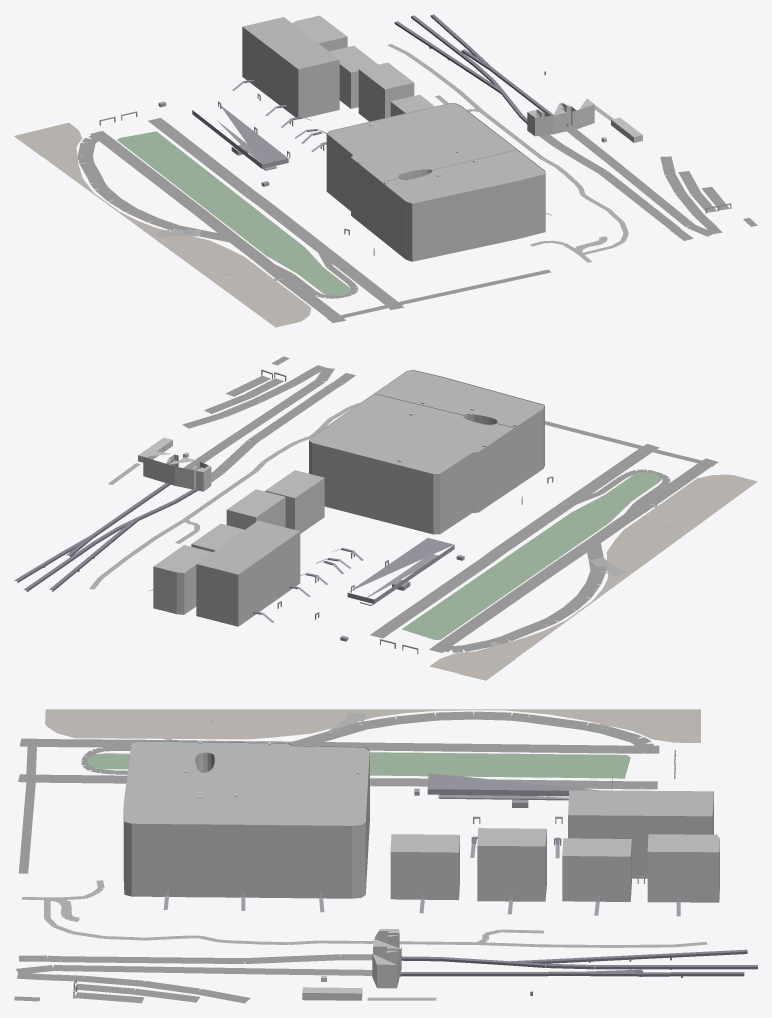
3 views of the same model, one above another, from view 1: azimuth 30°, elevation 25°; view 2: azimuth 150°, elevation 25°; view 3: azimuth 270°, elevation 25° (orthographic). The views are drawn at different scales.
Bounding box in the file's own units: 507 × 63.44 × 550.
